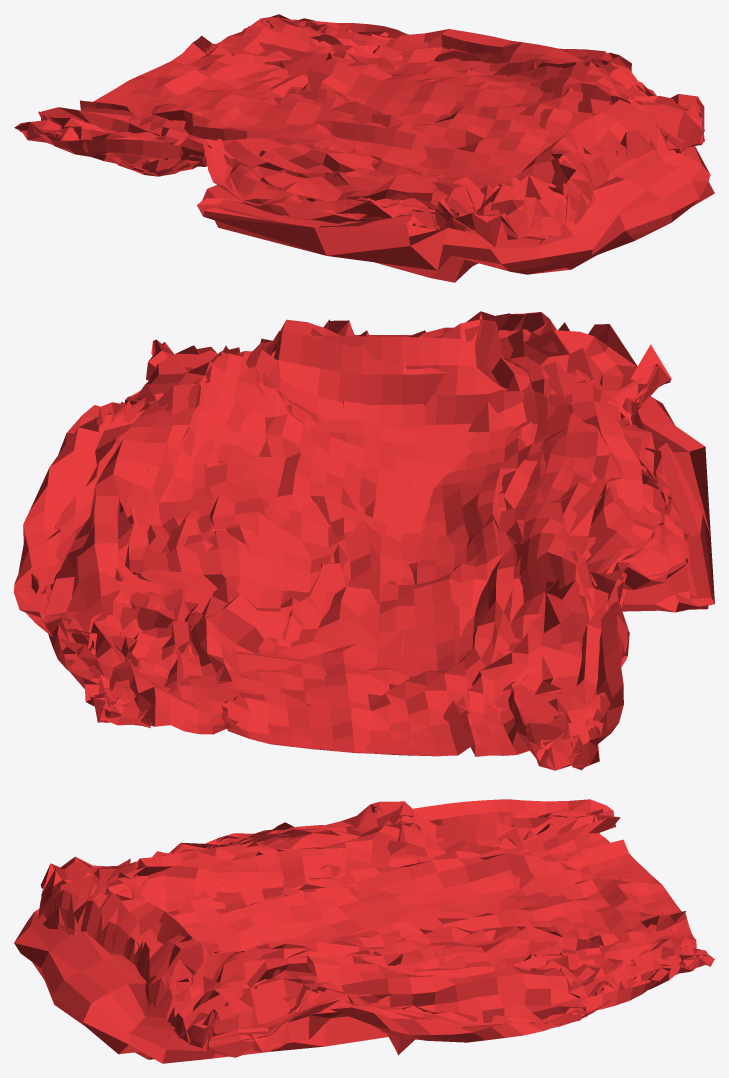
Rendered from ShittyCape.fbx.
3 views of the same model, one above another, from view 1: azimuth 30°, elevation 25°; view 2: azimuth 150°, elevation 25°; view 3: azimuth 270°, elevation 25° (orthographic). The views are drawn at different scales.
Visible parts, largest first — view 1: Cylinder.003; view 2: Cylinder.003; view 3: Cylinder.003.
Boxes of the visible parts, x1,y1,x2,y2 form: Cylinder.003: (14, 14, 714, 282); Cylinder.003: (14, 311, 714, 770); Cylinder.003: (14, 799, 714, 1063).
Size of the model in its own units: 91.1 by 16.46 by 105.
